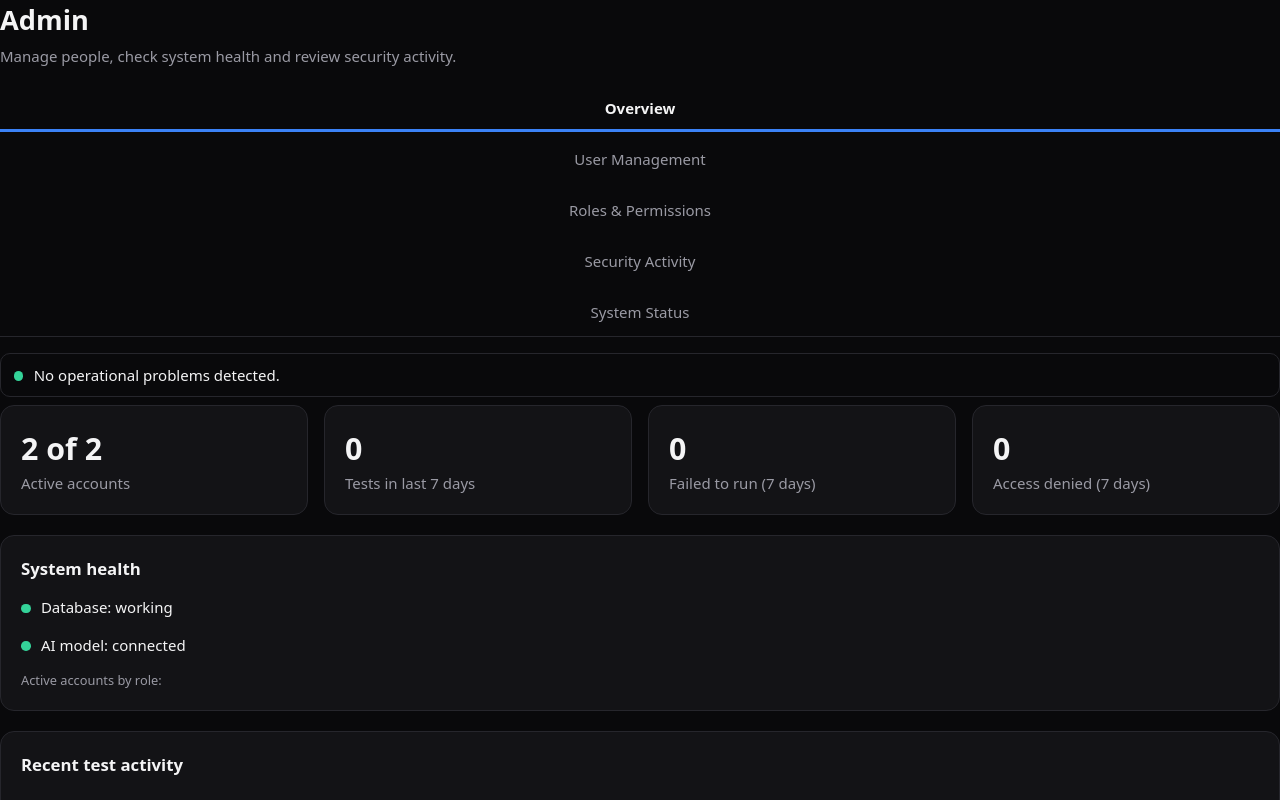
Admin console › cannot change own role, asks for confirmation before deactivating, and shows server refusals
Click the button "User Management" at [640, 161], box [0,138,1279,183]
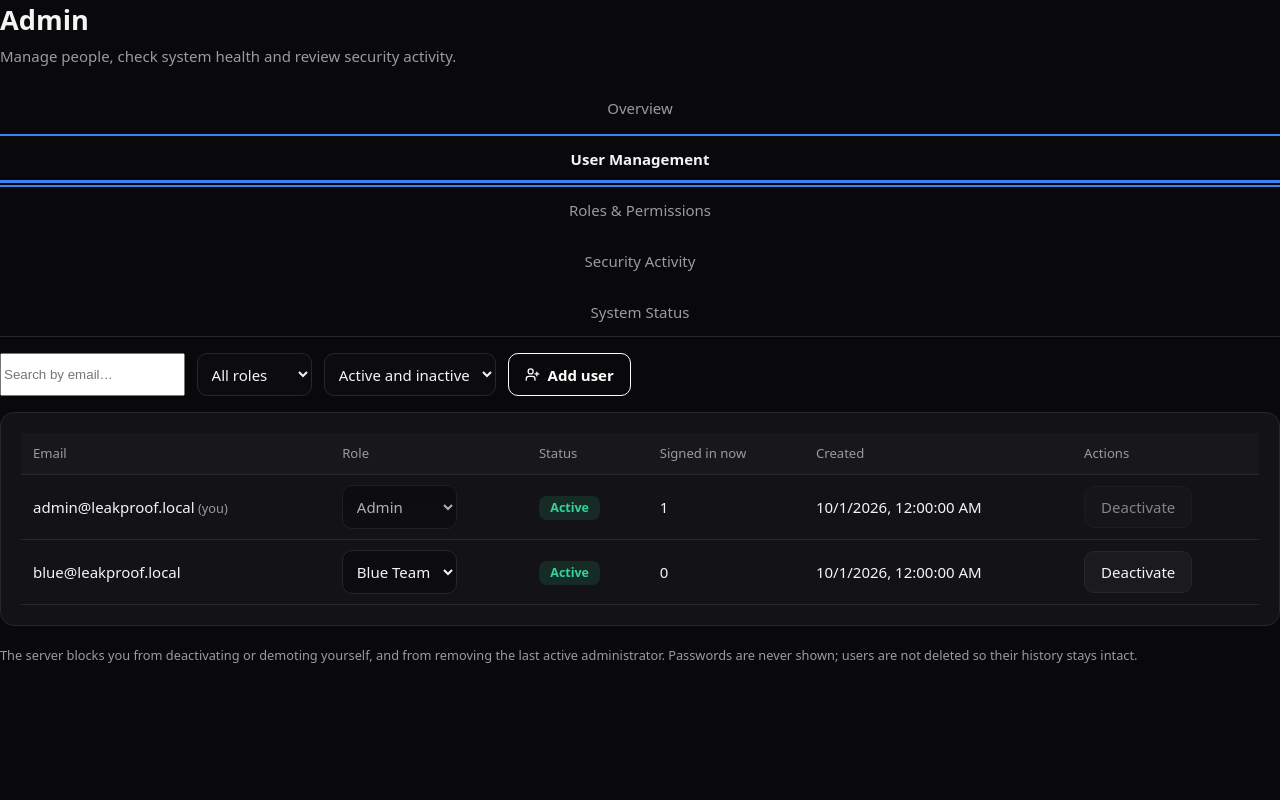
Check: the dropdown named "Role for admin@leakproof.local" is disabled, box [342,485,457,528]
Check: the button "Deactivate" in the row of "admin@leakproof.local" is disabled, box [1084,486,1192,528]
Click the button "Deactivate" in the row of "blue@leakproof.local" at [1138, 572], box [1084,551,1192,593]
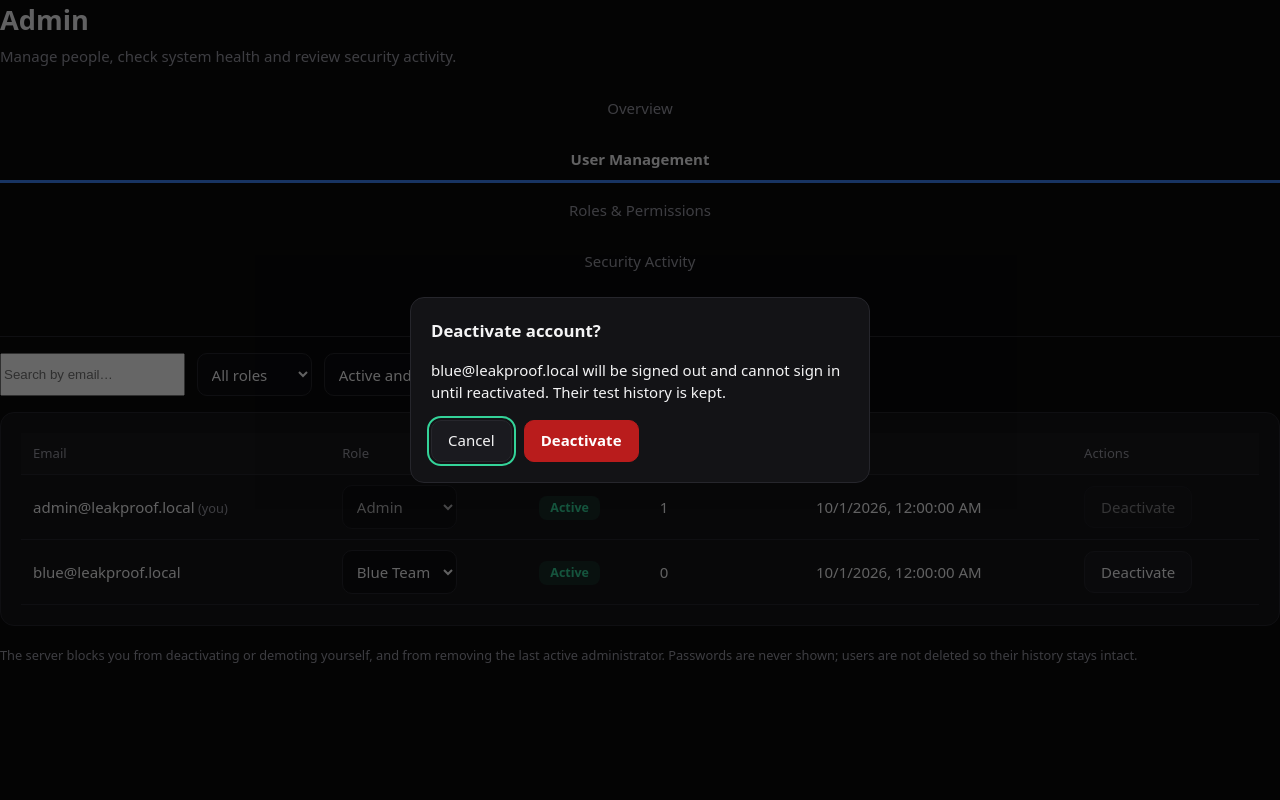
Click the button "Deactivate" at [581, 441], box [524,420,638,462]
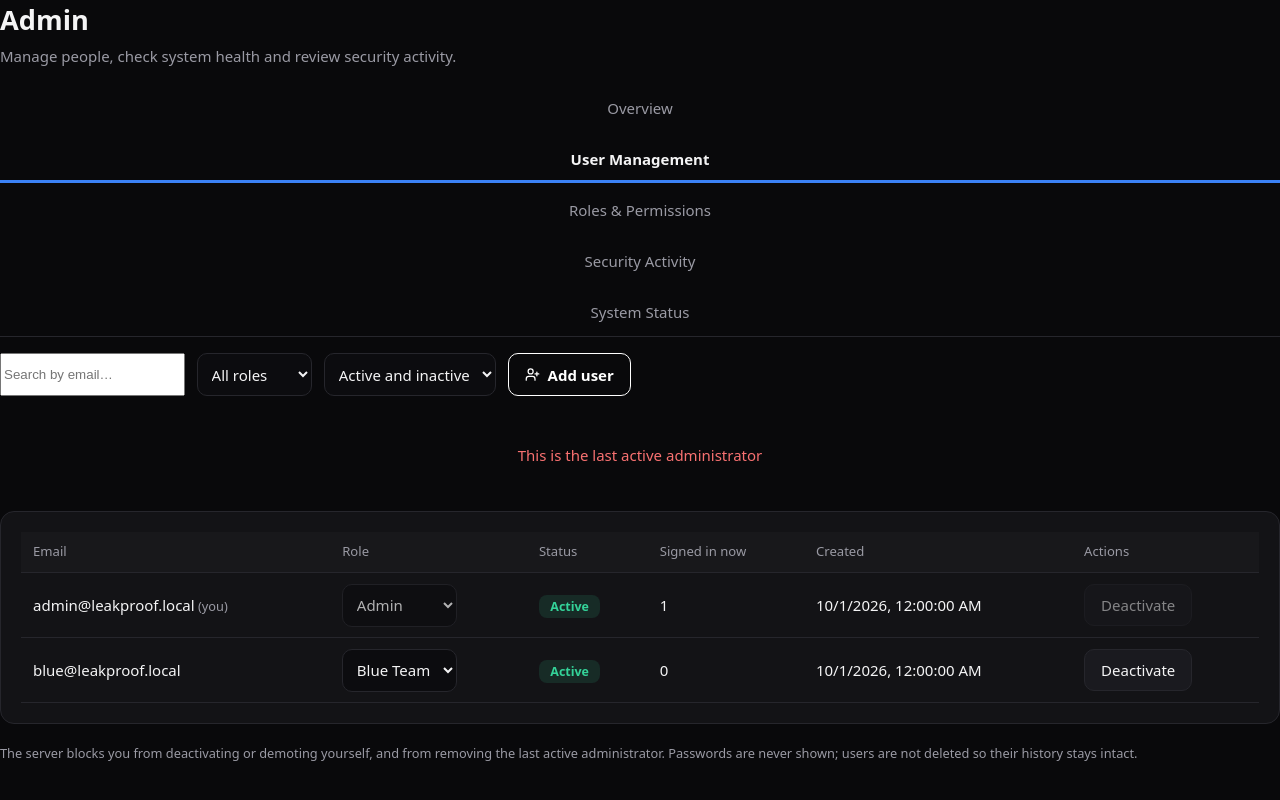
Check: the message shows "last active administrator", box [518,446,762,466]
